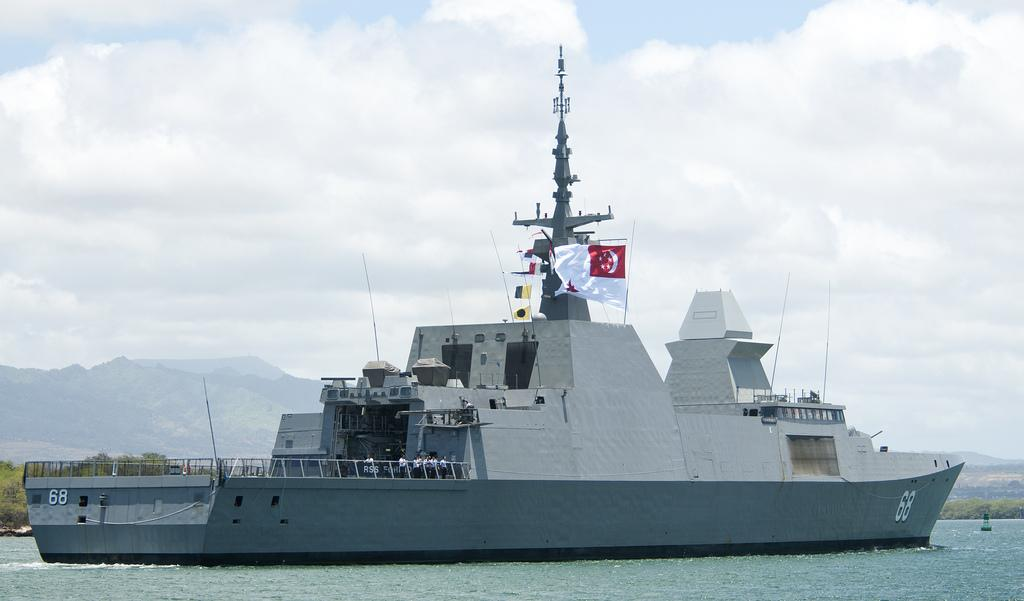Warship: (17, 28, 969, 566)
